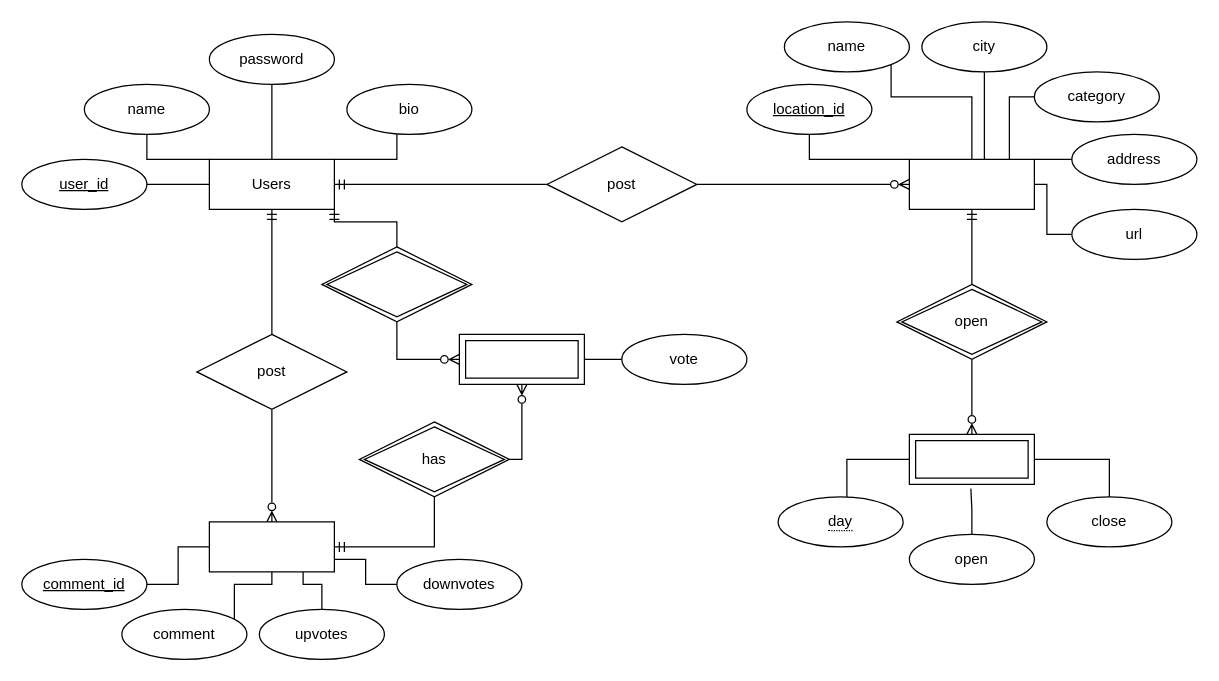
Some shapes in this 1219 by 681 pixel diagram are drawn without their labels. Here are the shapes that lost their labels. From the top down, the centre of each, then its label:
(x=971, y=183): Locations
(x=396, y=284): place
(x=521, y=358): Votes
(x=971, y=458): Hours
(x=271, y=546): Comments
